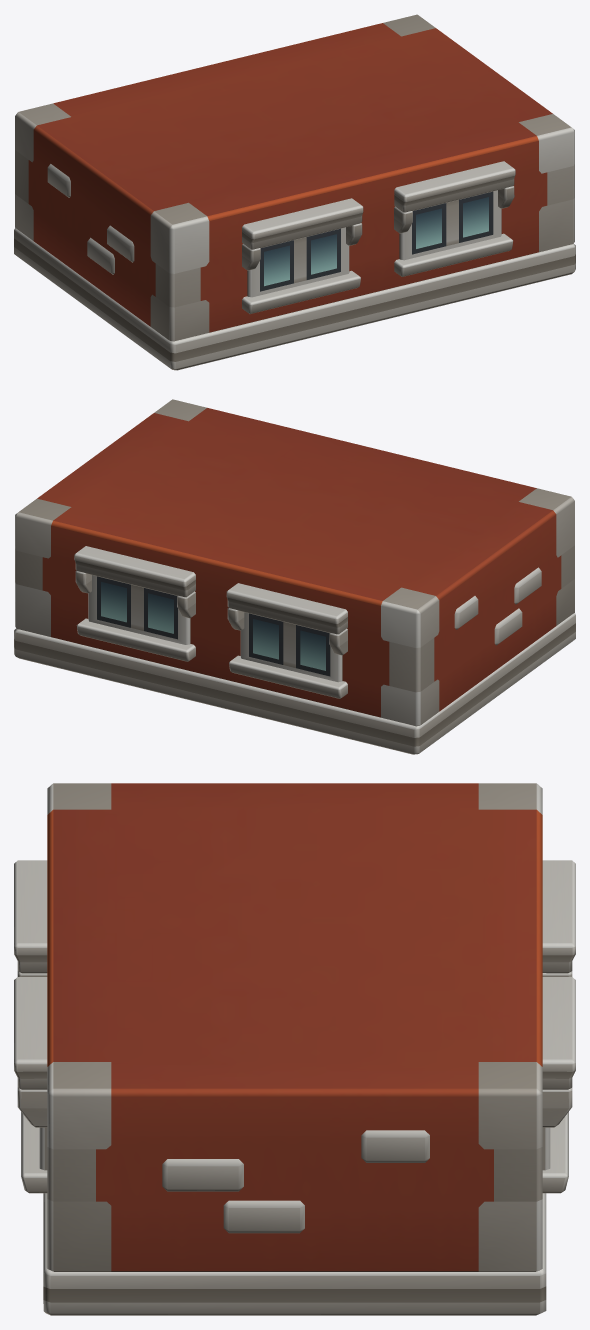
File: appartment_type1_x6_element_red.fbx
3 renders of one model, top to bottom at view 1: azimuth 30°, elevation 25°; view 2: azimuth 150°, elevation 25°; view 3: azimuth 270°, elevation 25°, orthographic. The views are drawn at different scales.
Visible parts, largest first — view 1: appartment_type1_x6_element_red; view 2: appartment_type1_x6_element_red; view 3: appartment_type1_x6_element_red.
Boxes of the visible parts, left/top/right/bottom form: appartment_type1_x6_element_red: left=14, top=14, right=575, bottom=370; appartment_type1_x6_element_red: left=14, top=399, right=575, bottom=754; appartment_type1_x6_element_red: left=14, top=783, right=575, bottom=1315.
Size of the model in its own units: 1219 by 409 by 918.
